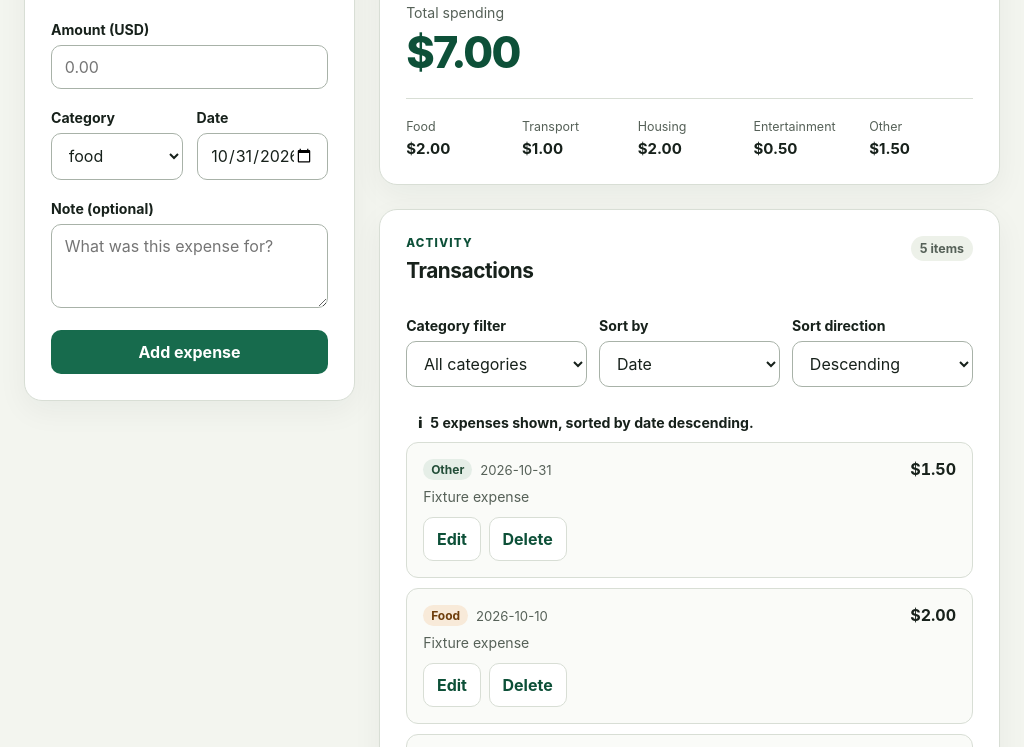
Test: transaction filtering and sorting › FILTER-001: filters only the list, announces results, and preserves summaries and durable data
This screenshot has width=1024, height=747.
(page scrolled)
Expected: the dropdown labelled "Sort by" shows "Date", [599,341,780,387]
Expected: the dropdown labelled "Sort direction" shows "Descending", [792,341,973,387]
Select "food" in the dropdown labelled "Category filter" at (497, 364), box [406,341,587,387]
(page scrolled)
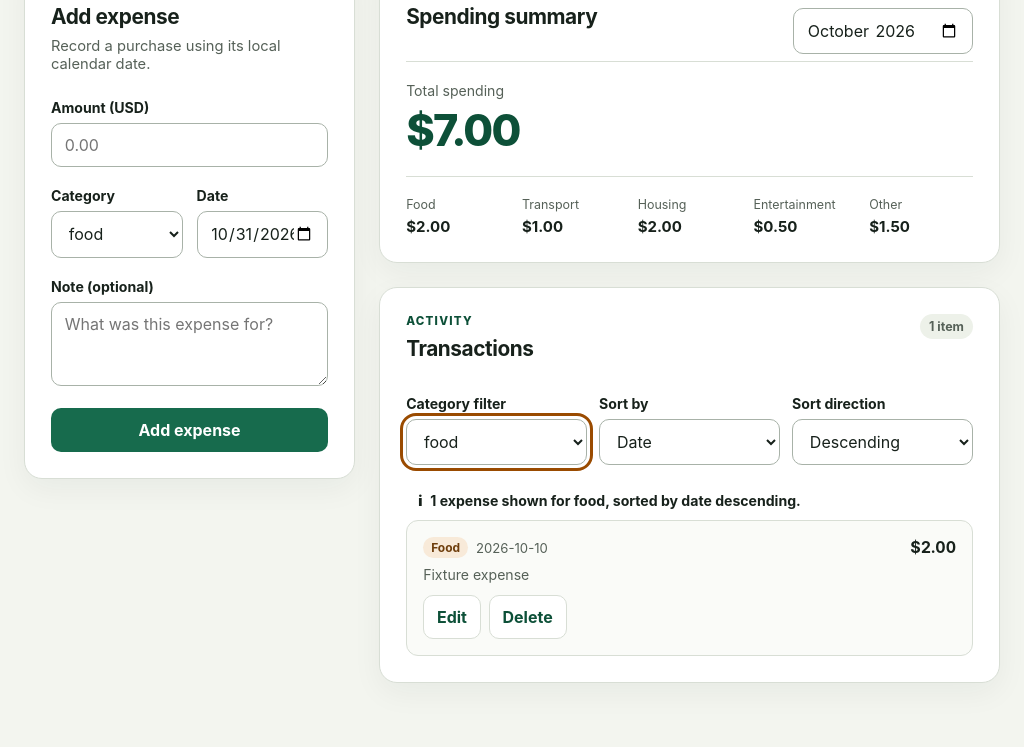
Expected: the text named "Monthly total" reads "$7.00", [406,104,520,156]
Expected: the text named "Food total" does not show "$0.00", [406,217,450,236]
Select "transport" in the dropdown labelled "Category filter" at (497, 442), box [406,419,587,465]
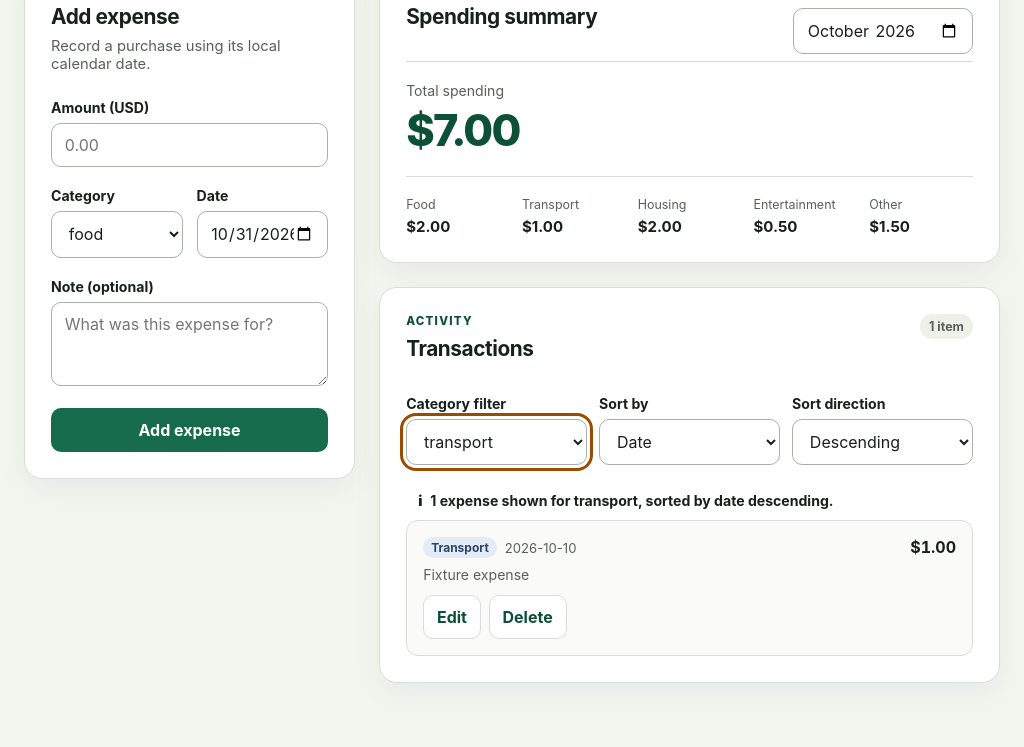
Expected: the text named "Monthly total" reads "$7.00", [406,104,520,156]
Expected: the text named "Transport total" does not show "$0.00", [522,217,563,236]
Select "housing" in the dropdown labelled "Category filter" at (497, 442), box [406,419,587,465]
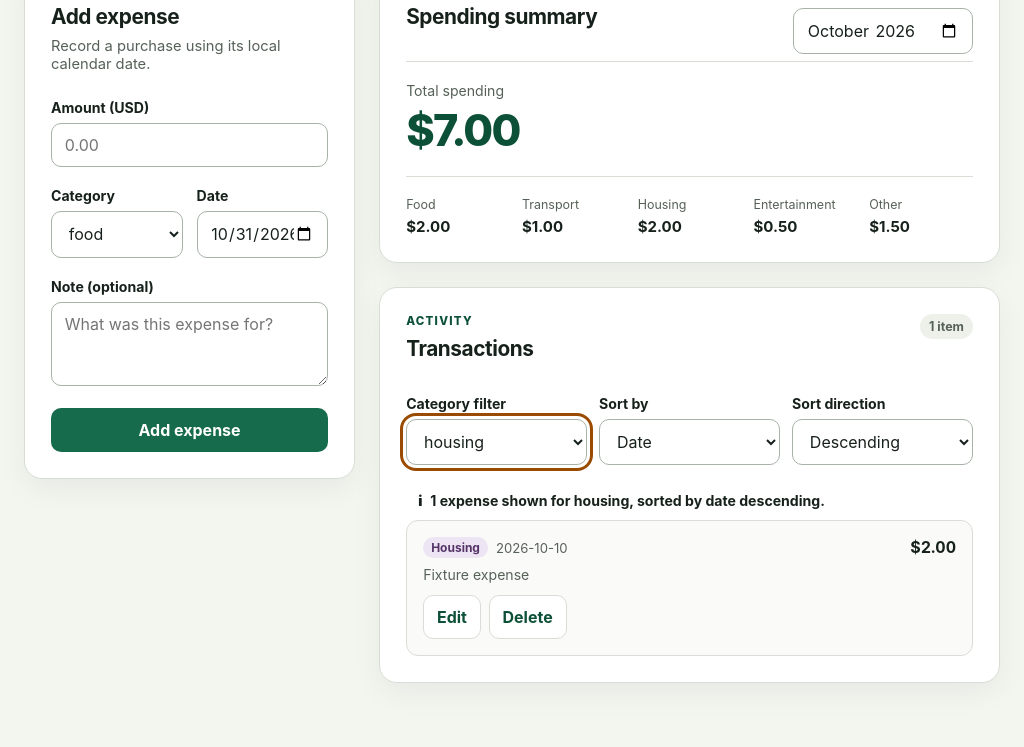
Expected: the text named "Monthly total" reads "$7.00", [406,104,520,156]
Expected: the text named "Housing total" does not show "$0.00", [638,217,682,236]
Select "entertainment" in the dropdown labelled "Category filter" at (497, 442), box [406,419,587,465]
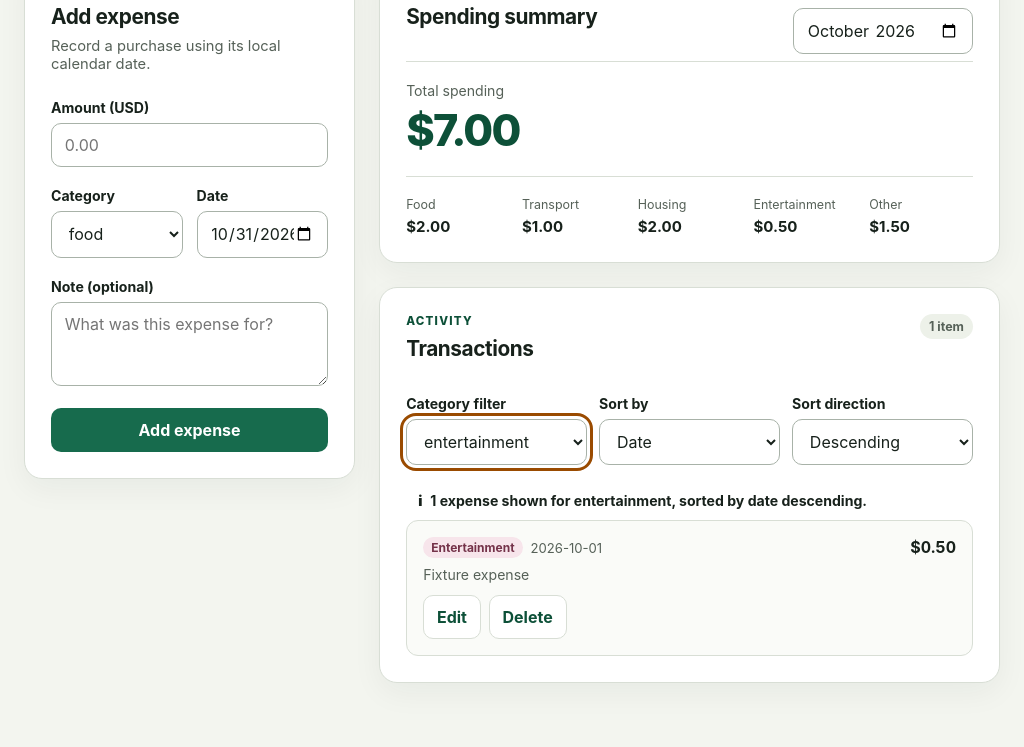
Expected: the text named "Monthly total" reads "$7.00", [406,104,520,156]
Expected: the text named "Entertainment total" does not show "$0.00", [753,217,797,236]
Select "other" in the dropdown labelled "Category filter" at (497, 442), box [406,419,587,465]
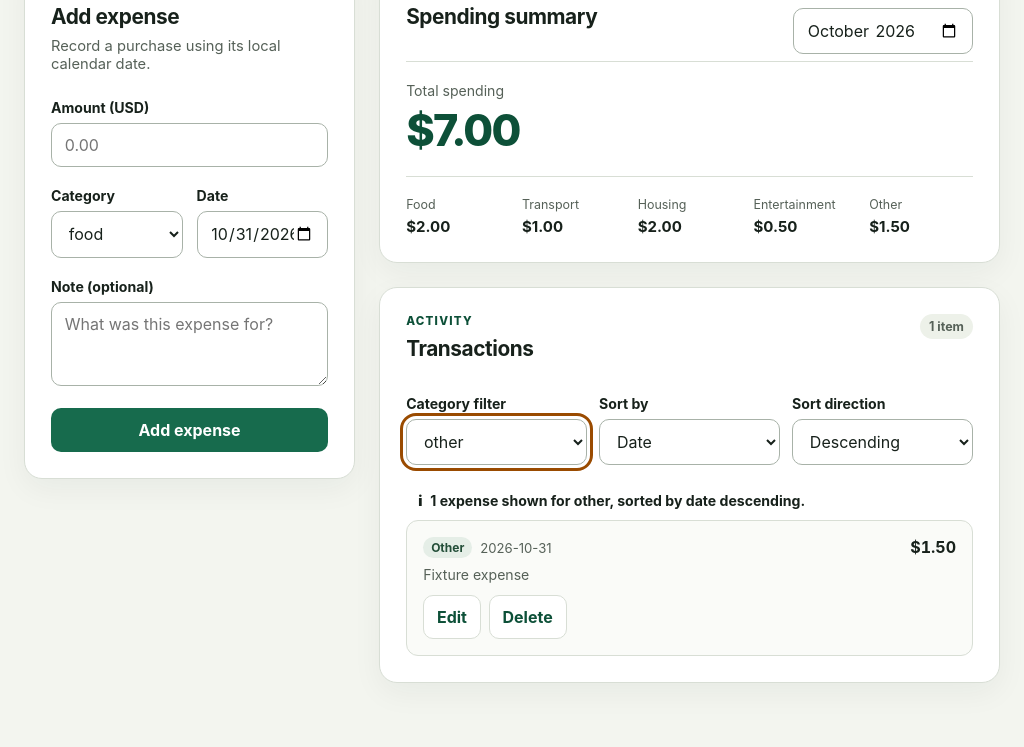
Expected: the text named "Monthly total" reads "$7.00", [406,104,520,156]
Expected: the text named "Other total" does not show "$0.00", [869,217,910,236]
Select "All categories" in the dropdown labelled "Category filter" at (497, 442), box [406,419,587,465]
(page scrolled)
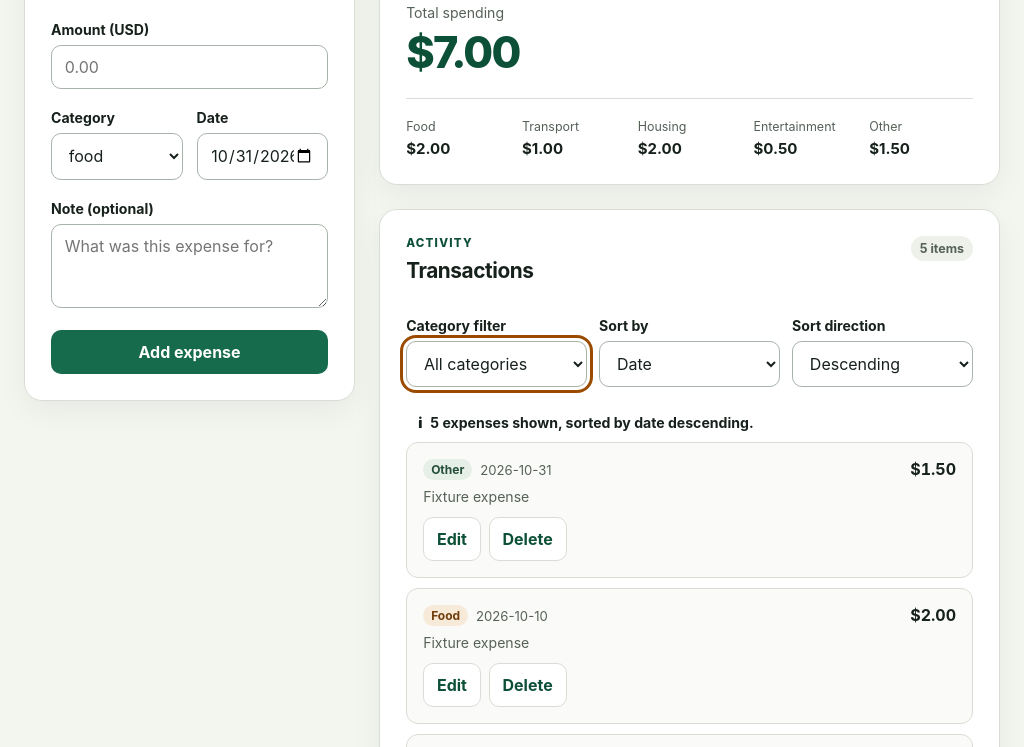
Expected: the text named "Monthly total" reads "$7.00", [406,26,520,78]
Expected: the message named "Transaction results" shows "5 expenses shown", [430,414,754,431]
